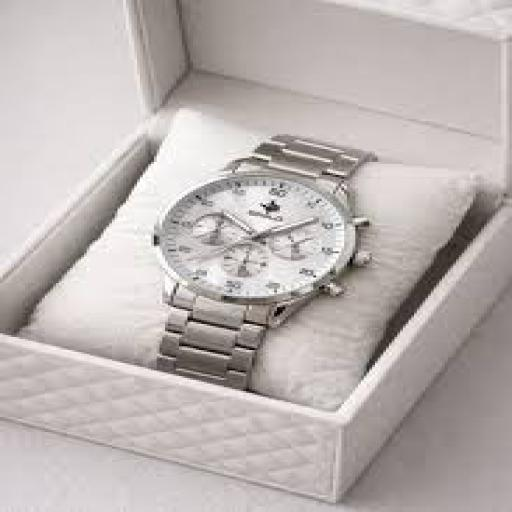KolSaati: (118, 104, 402, 406)
